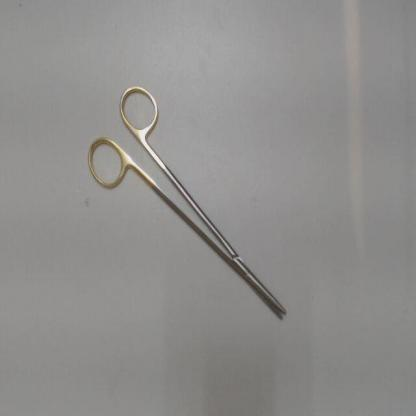7 Metzenbaum Scissors: (84, 80, 291, 326)
